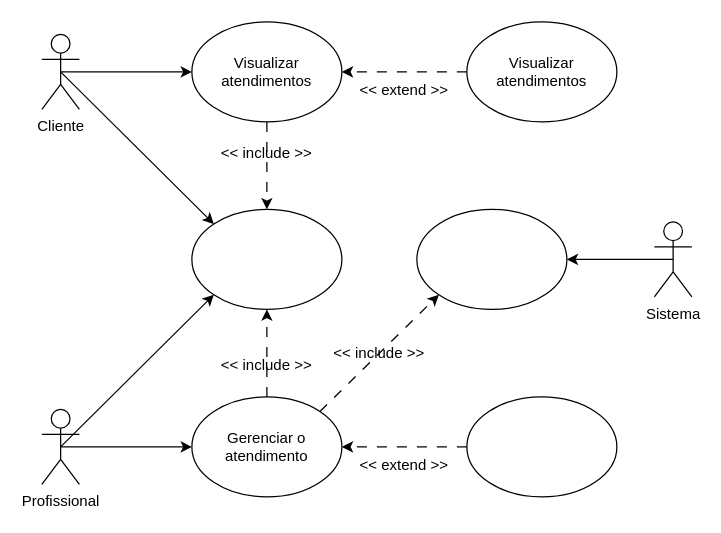
Image size: 721x533. Some labels were removed from this diagram. Here are the shapes that lost their labels. From the top down, the centre of each, then its label:
At (x=266, y=258): "Autenticar".
At (x=491, y=258): "Validar conflitos".
At (x=541, y=446): "Imprimir relatório".
